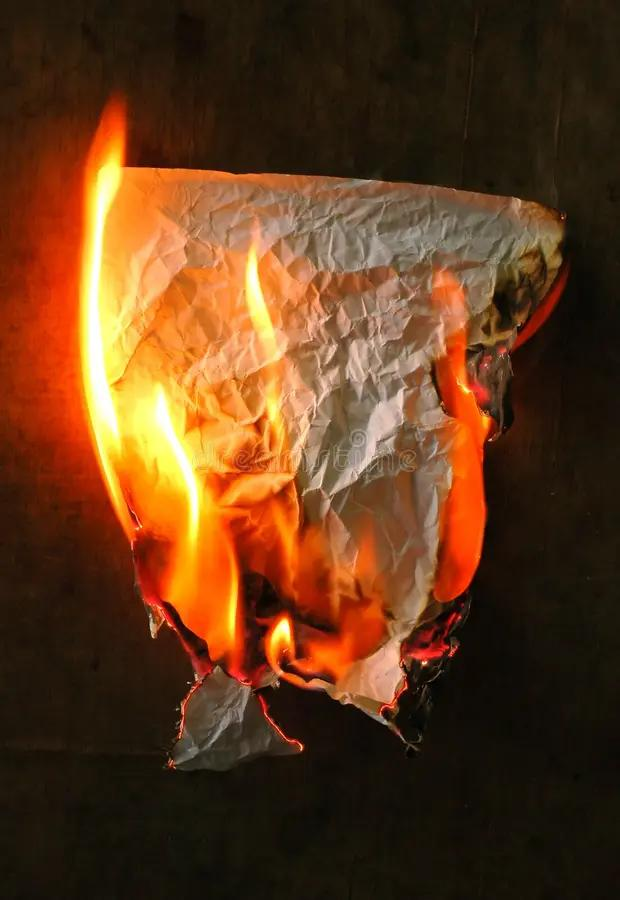Fire: (65, 80, 322, 688), (407, 252, 499, 438), (332, 512, 413, 692)
